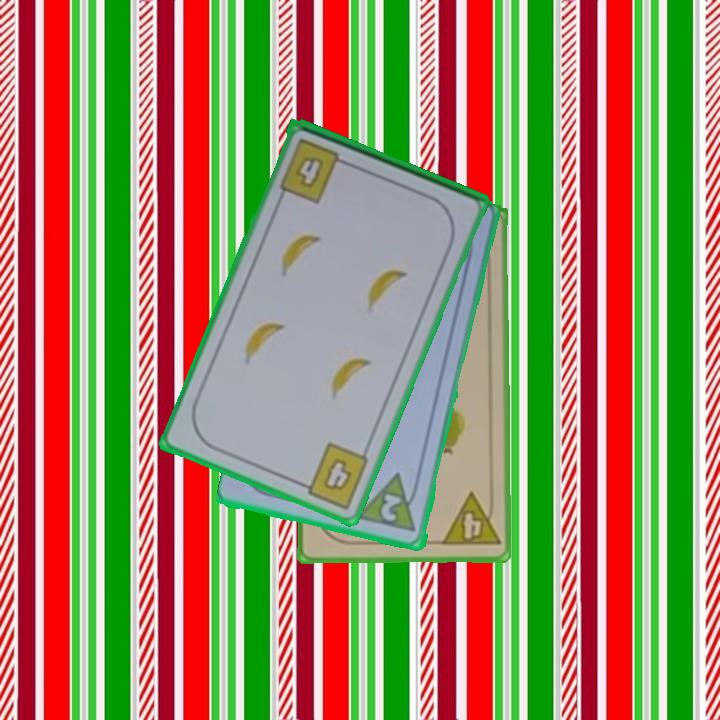2p: (356, 471, 423, 536)
4b: (294, 439, 372, 512), (293, 156, 324, 192)
4p: (438, 489, 503, 550)
